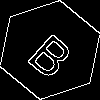B: (25, 25, 82, 81)
